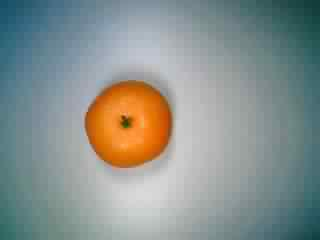orange: (80, 72, 175, 174)
